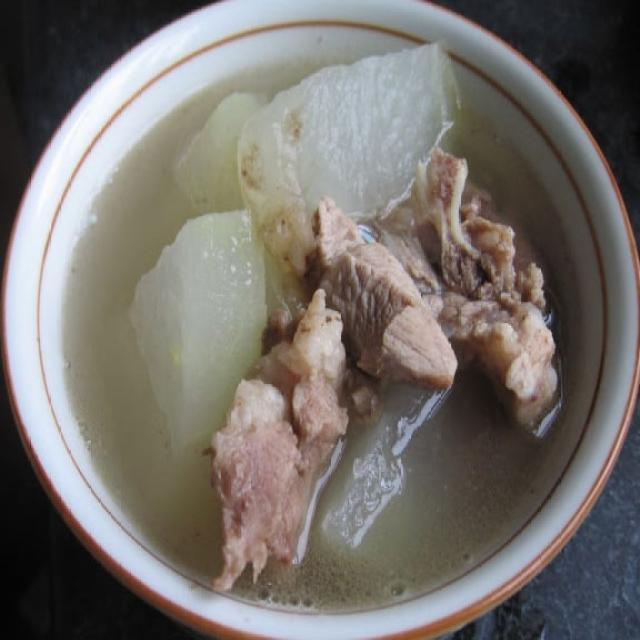汤锅炖物: (21, 28, 620, 594)
